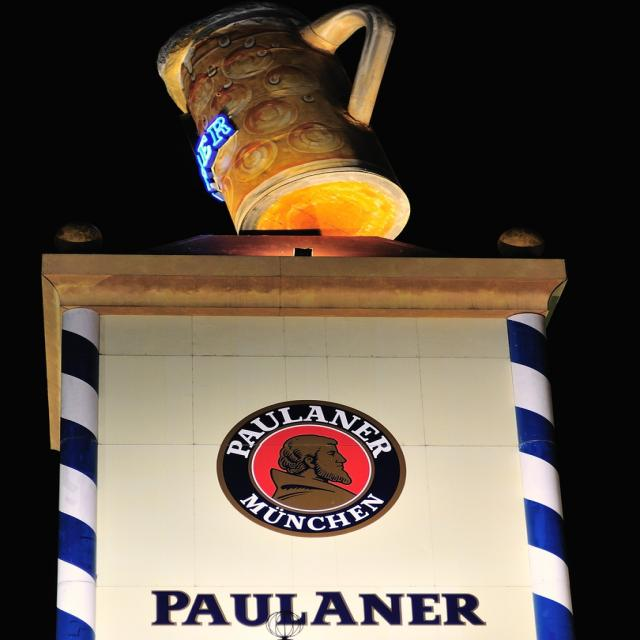paulaner: (218, 401, 407, 539)
